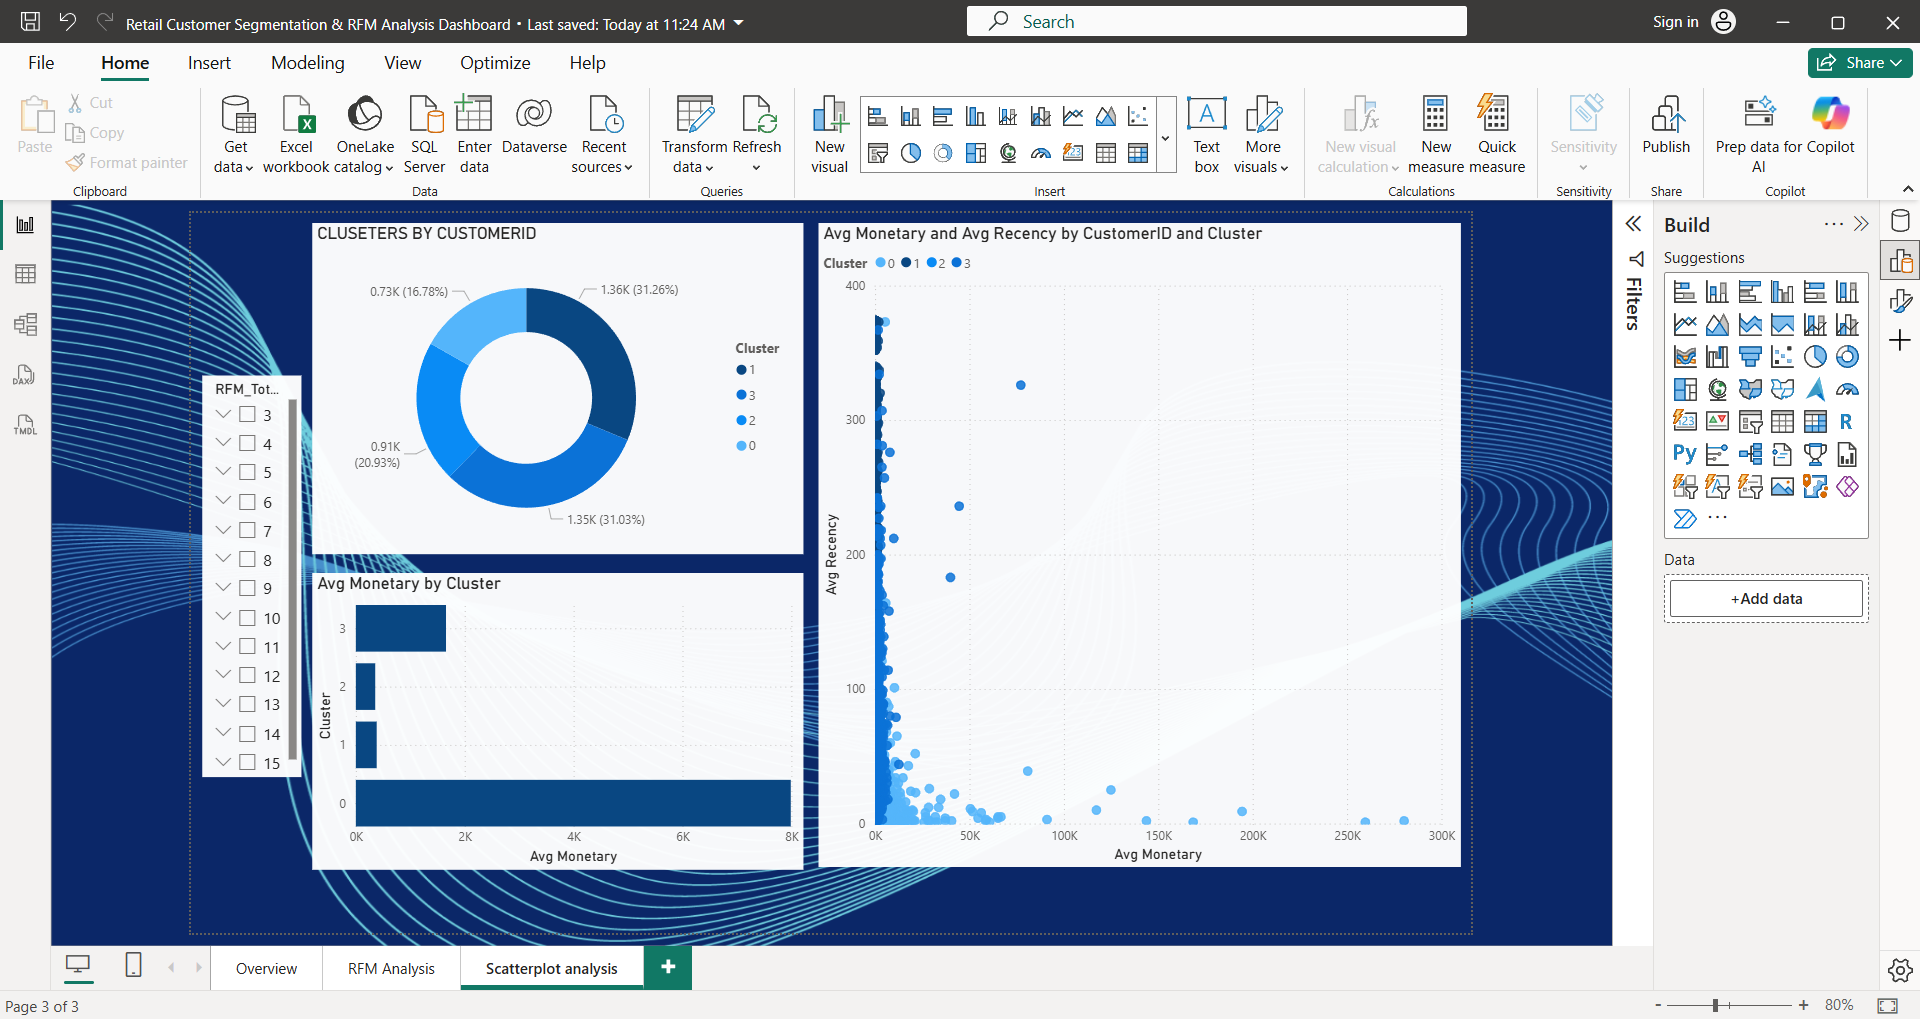

The dashboard page shown, as its layout file describes it:
{"tool":"powerbi","page":{"name":"Scatterplot analysis","canvas":[1280,720],"ordinal":2},"visuals":[{"type":"donutChart","title":"CLUSETERS BY CUSTOMERID","fields":{"Category":["rfm_results.Cluster"],"Y":["CountNonNull(rfm_results.CustomerID)"]},"box":[121.5,10.5,491.3,331.1],"z":0},{"type":"barChart","fields":{"Category":["rfm_results.Cluster"],"Y":["rfm_results.Avg Monetary"]},"box":[121.5,360.4,491.3,296.5],"z":1000},{"type":"scatterChart","fields":{"Series":["rfm_results.Cluster"],"X":["rfm_results.Avg Monetary"],"Y":["rfm_results.Avg Recency"],"Category":["rfm_results.CustomerID"]},"box":[627.5,10.5,642.2,644.3],"z":2000},{"type":"slicer","fields":{"Values":["rfm_results.RFM_Total","rfm_results.Cluster","rfm_results.Segment"]},"box":[11.5,162.4,99.5,401.2],"z":3000}]}

Visuals, with their boxes on the page's 1280x720 design canvas (x1, y1, x2, y2). These are canvas units, not pixel positions in the 1920x1019 screenshot, which may show the page scaled, cropped or inside an application window:
"CLUSETERS BY CUSTOMERID" donutChart: <bbox>122, 10, 613, 342</bbox>
barChart - rfm_results.Cluster x rfm_results.Avg Monetary: <bbox>122, 360, 613, 657</bbox>
scatterChart - rfm_results.Cluster x rfm_results.Avg Monetary: <bbox>628, 10, 1270, 655</bbox>
slicer - rfm_results.RFM_Total x rfm_results.Cluster: <bbox>12, 162, 111, 564</bbox>
